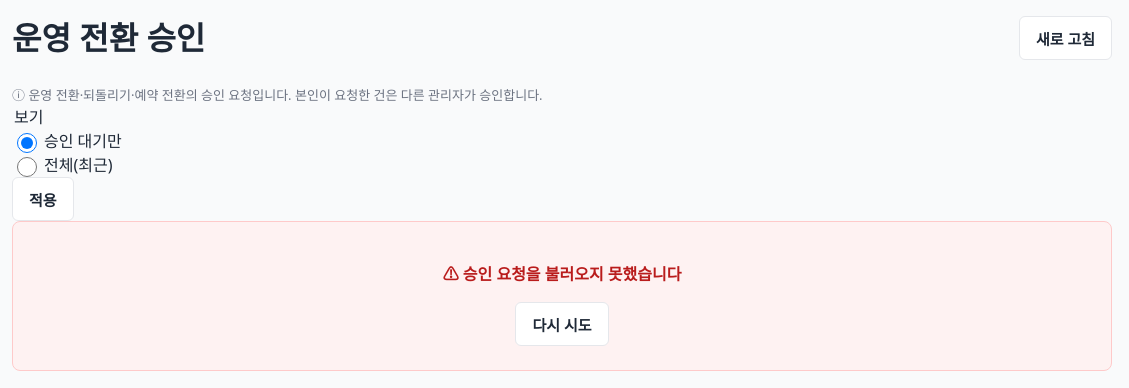
it: AP-1 운영 전환 승인 목록 › 조회 실패는 ErrorState와 다시 시도
Expected: the text "승인 요청을 불러오지 못했습니다" is shown, x1=463 y1=263 x2=681 y2=285
Click the button "다시 시도" at (562, 324), box x1=515 y1=302 x2=608 y2=346
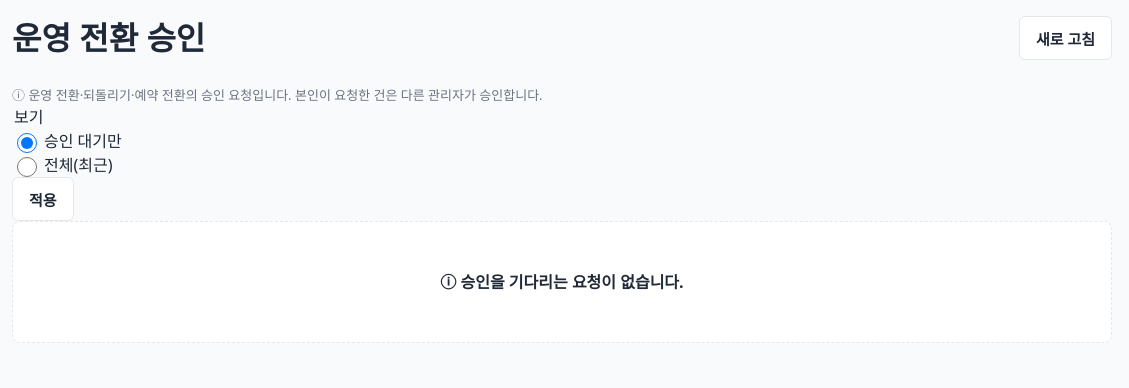
Expected: the text "승인을 기다리는 요청이 없습니다." is shown, x1=460 y1=271 x2=684 y2=293
